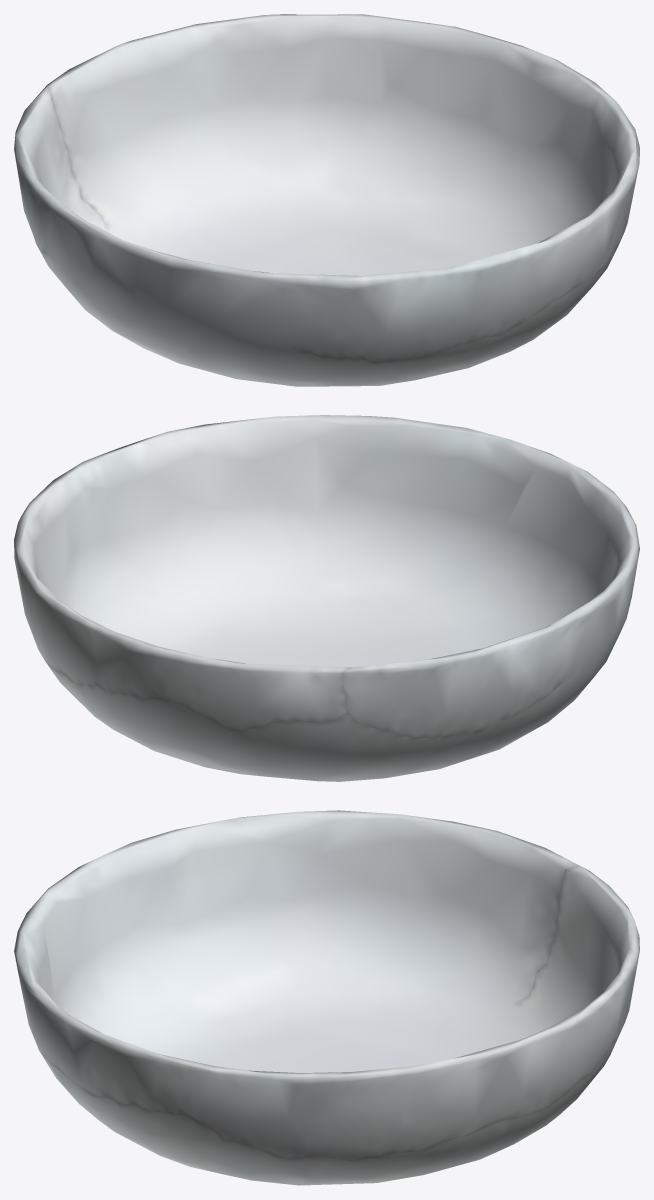
File: Threshold_Porcelain_Serving_Bowl_Coupe_White-medium.glb
3 views of the same model, one above another, from view 1: azimuth 30°, elevation 25°; view 2: azimuth 150°, elevation 25°; view 3: azimuth 270°, elevation 25° (orthographic).
Visible parts, largest first — view 1: Threshold_Porcelain_Serving_Bowl_Coupe_White; view 2: Threshold_Porcelain_Serving_Bowl_Coupe_White; view 3: Threshold_Porcelain_Serving_Bowl_Coupe_White.
Part boxes in pixels (box(x1,y1,x2,y2)): Threshold_Porcelain_Serving_Bowl_Coupe_White: box(14, 14, 639, 386); Threshold_Porcelain_Serving_Bowl_Coupe_White: box(14, 415, 639, 781); Threshold_Porcelain_Serving_Bowl_Coupe_White: box(14, 810, 639, 1185).
Bounding box in the file's own units: 0.2081 × 0.0687 × 0.2093.
1 material, 1 textured.
